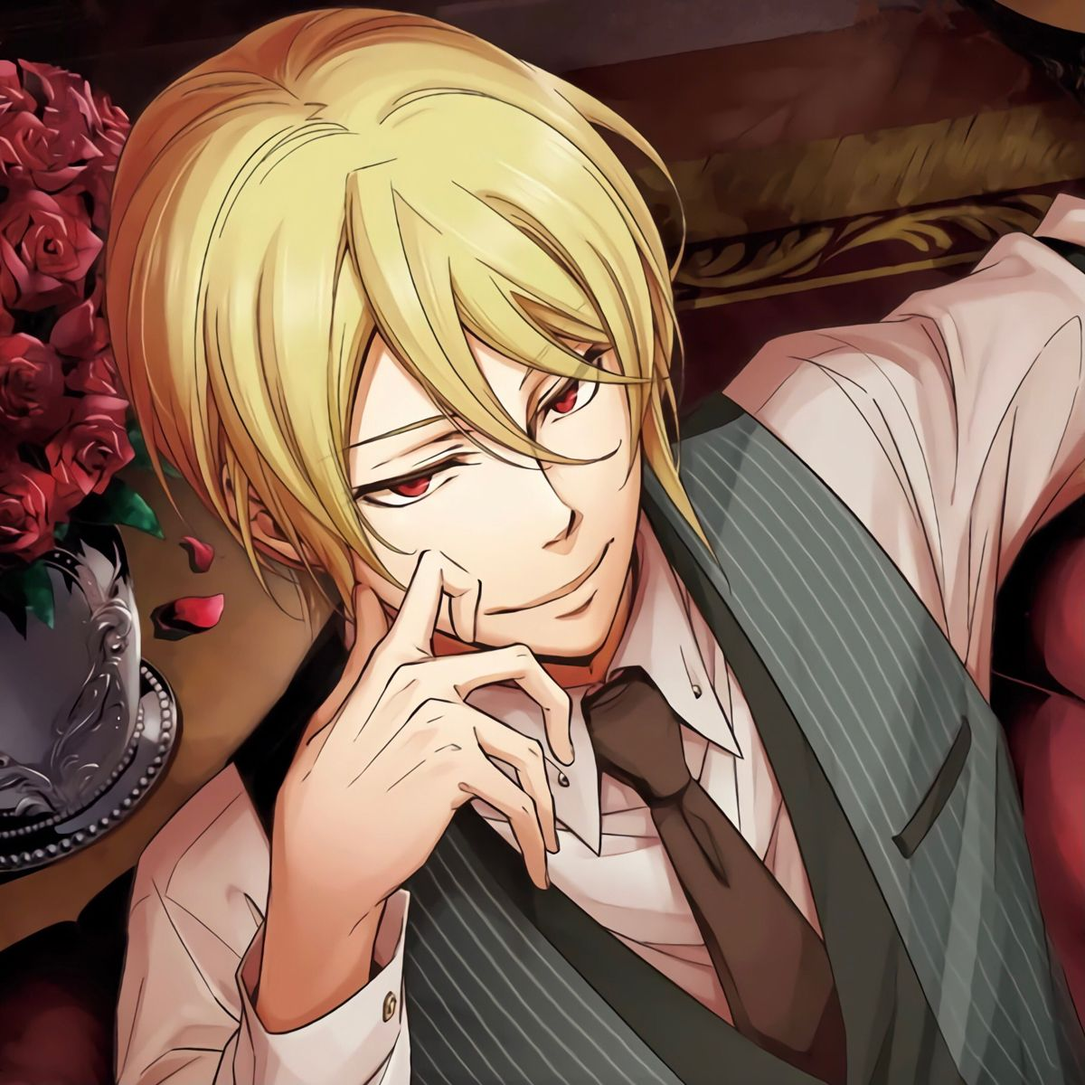Foreign Matter: (710, 827, 796, 915)
Full Black: (128, 252, 675, 541)
Full Sour: (331, 482, 577, 715)
Severe Insect Damage: (739, 268, 952, 528)
